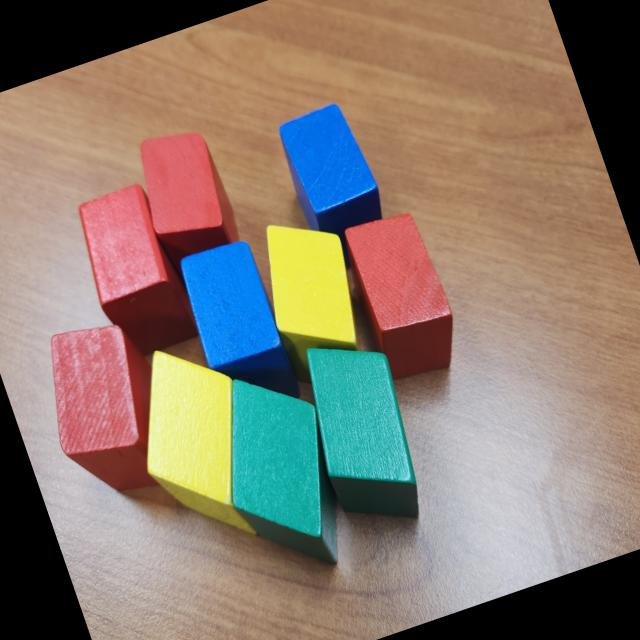blue: (172, 234, 304, 423), (270, 98, 394, 257)
green: (192, 356, 366, 590), (285, 322, 441, 542)
red: (26, 308, 190, 512), (328, 204, 471, 392), (67, 178, 203, 362), (125, 119, 248, 281)
yellow: (110, 329, 282, 562), (245, 205, 376, 372)
